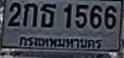1: (63, 3, 71, 27)
2: (7, 1, 20, 26)
5: (75, 3, 87, 27)
6: (89, 4, 101, 28), (104, 5, 115, 28)
A01: (22, 2, 37, 26)
A24: (40, 3, 56, 27)
BKK: (17, 34, 105, 52)
